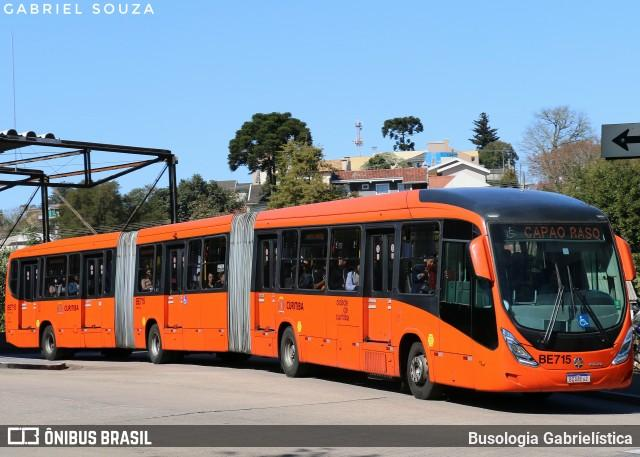CAPAO RASO: (521, 224, 604, 241)
